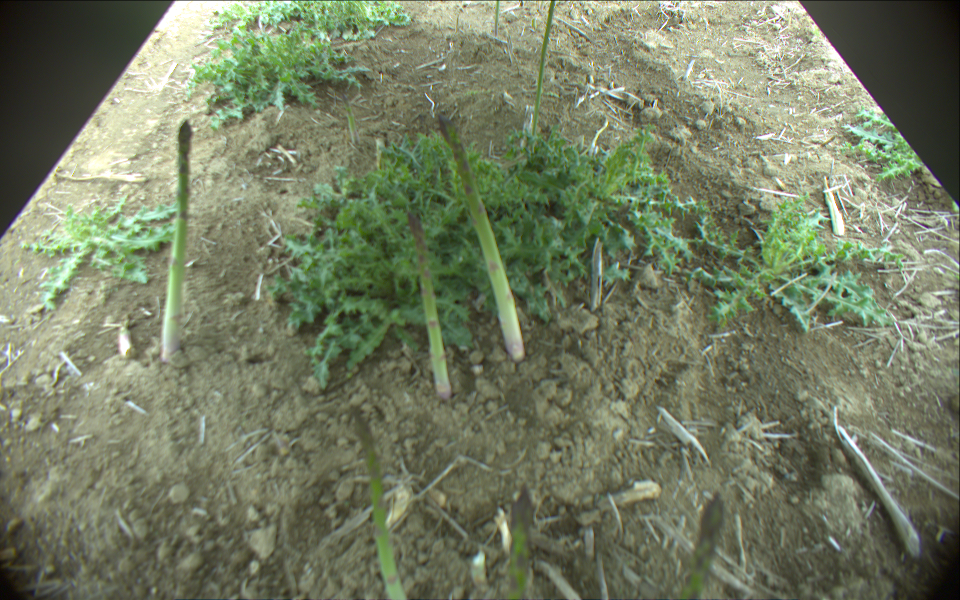aspa: (434, 115, 529, 363), (345, 407, 408, 600), (401, 206, 452, 398), (158, 119, 196, 364), (679, 492, 725, 600), (530, 1, 562, 139), (504, 479, 528, 600), (489, 1, 500, 39)
